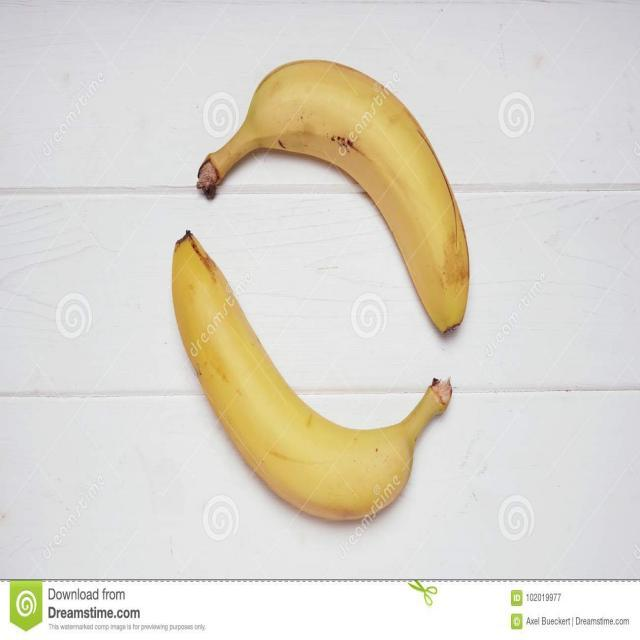Banana: (160, 230, 452, 530), (192, 49, 468, 334)
